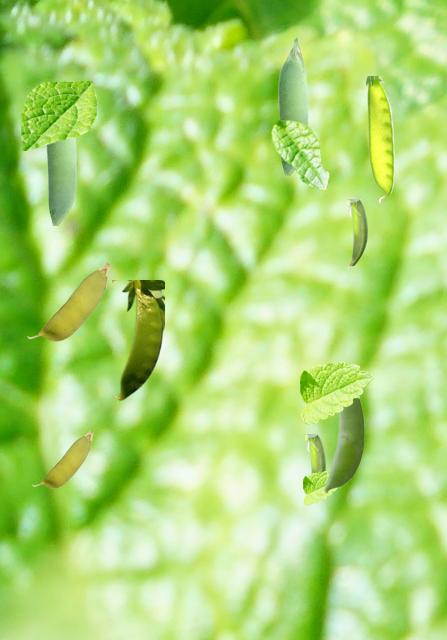pea: (27, 262, 109, 340), (112, 280, 163, 399), (278, 36, 307, 174), (324, 398, 363, 492), (32, 430, 92, 487), (366, 76, 393, 202), (46, 138, 75, 224), (347, 199, 368, 267), (305, 434, 326, 472)
